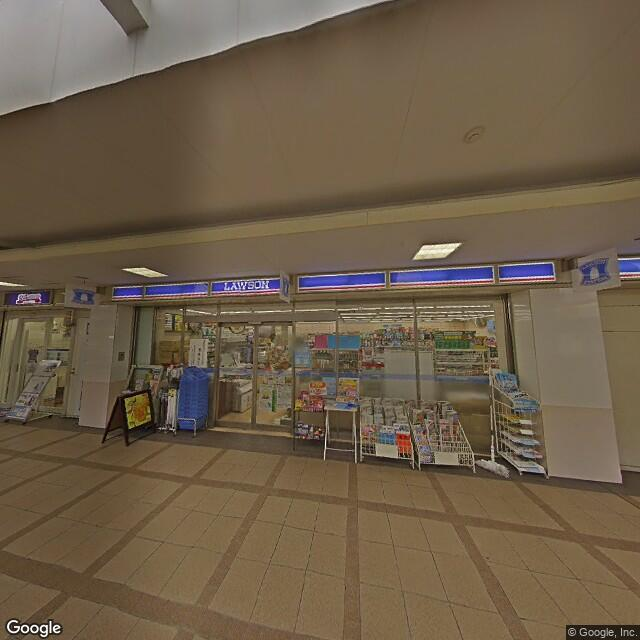lawson: (111, 258, 560, 312), (566, 249, 620, 298), (67, 283, 99, 313)
